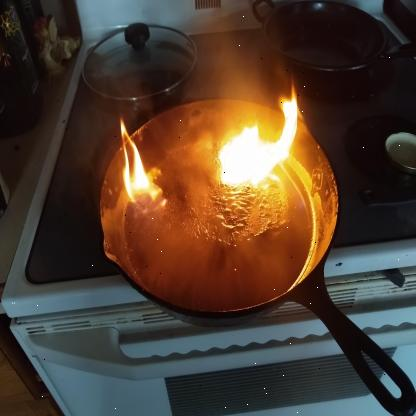fire: (218, 76, 296, 191), (116, 117, 163, 211)
